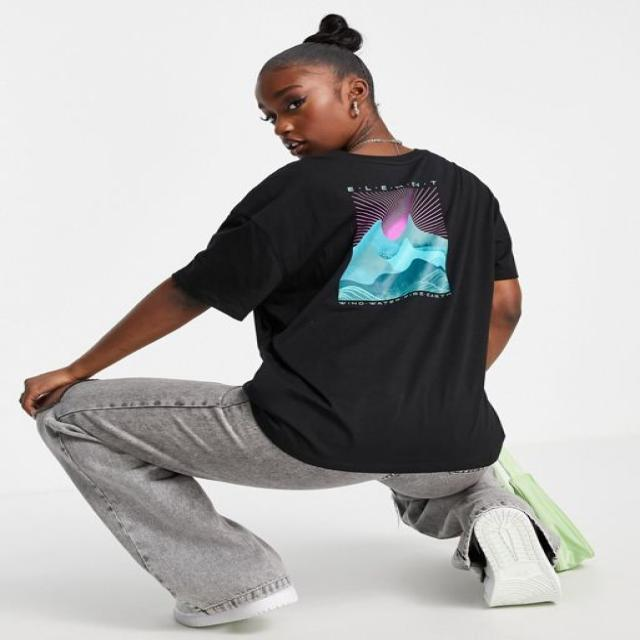tshirt: (171, 145, 524, 475)
